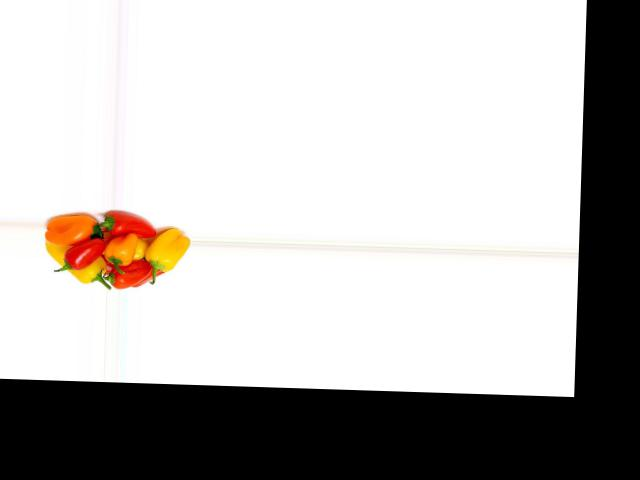bell_pepper: (45, 242, 107, 287)
